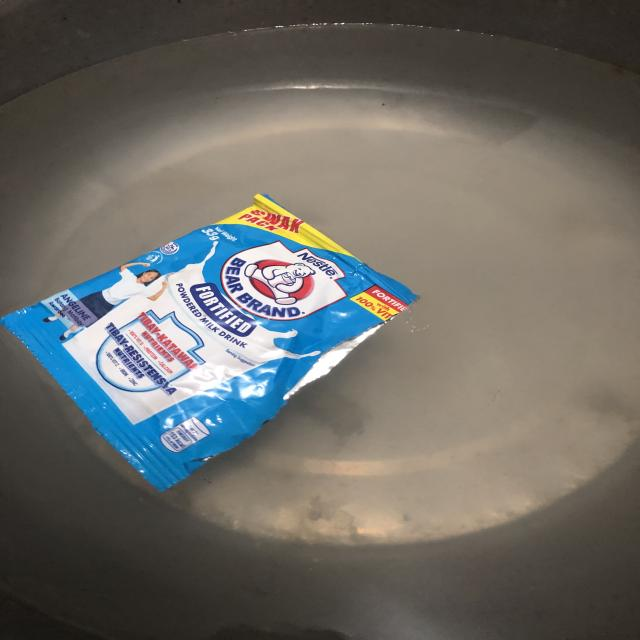Plastic Wrapper: (0, 181, 440, 503)
